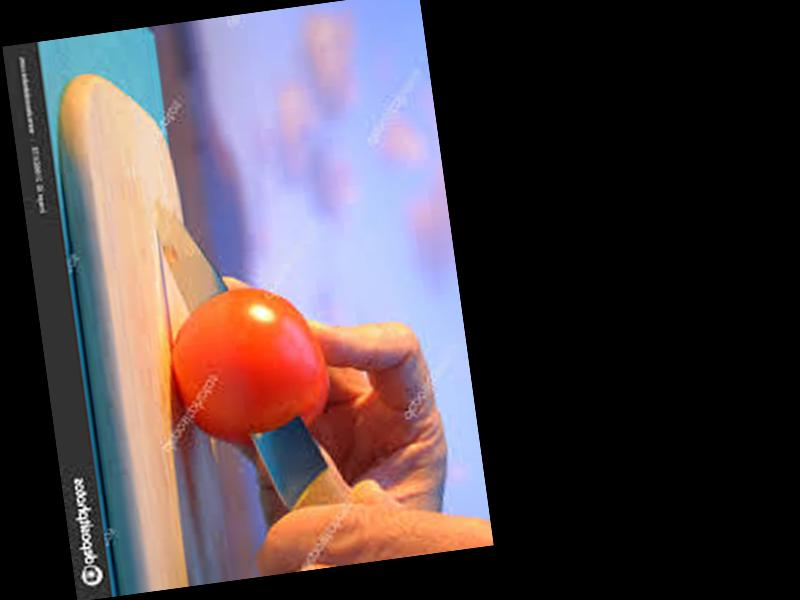Tomato: (160, 277, 333, 454)
